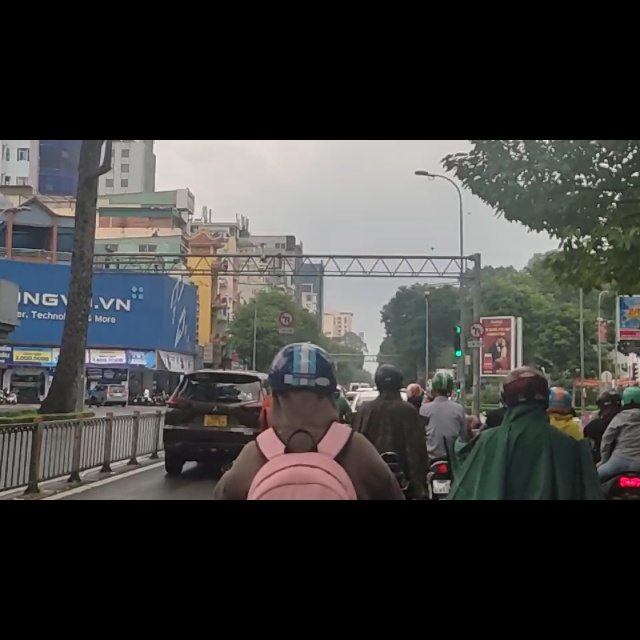bien_cam: (467, 325, 485, 357), (279, 303, 295, 335)
